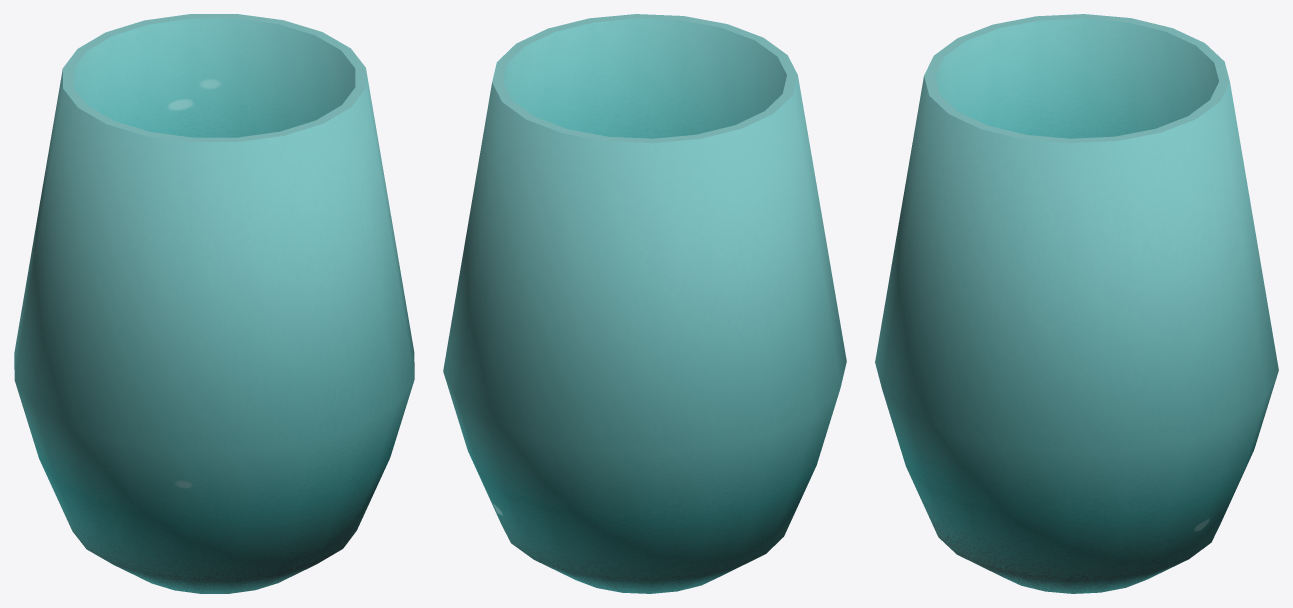
File: Wineglass_2.fbx
3 renders of one model, left to right at view 1: azimuth 30°, elevation 25°; view 2: azimuth 150°, elevation 25°; view 3: azimuth 270°, elevation 25°, orthographic.
Visible parts, largest first — view 1: Wine glass 1; view 2: Wine glass 1; view 3: Wine glass 1.
Part boxes in pixels (x1,y1,x2,y2): Wine glass 1: (14,14,414,593); Wine glass 1: (443,14,846,593); Wine glass 1: (875,14,1278,593).
Size of the model in its own units: 32.02 by 41.78 by 32.02.
